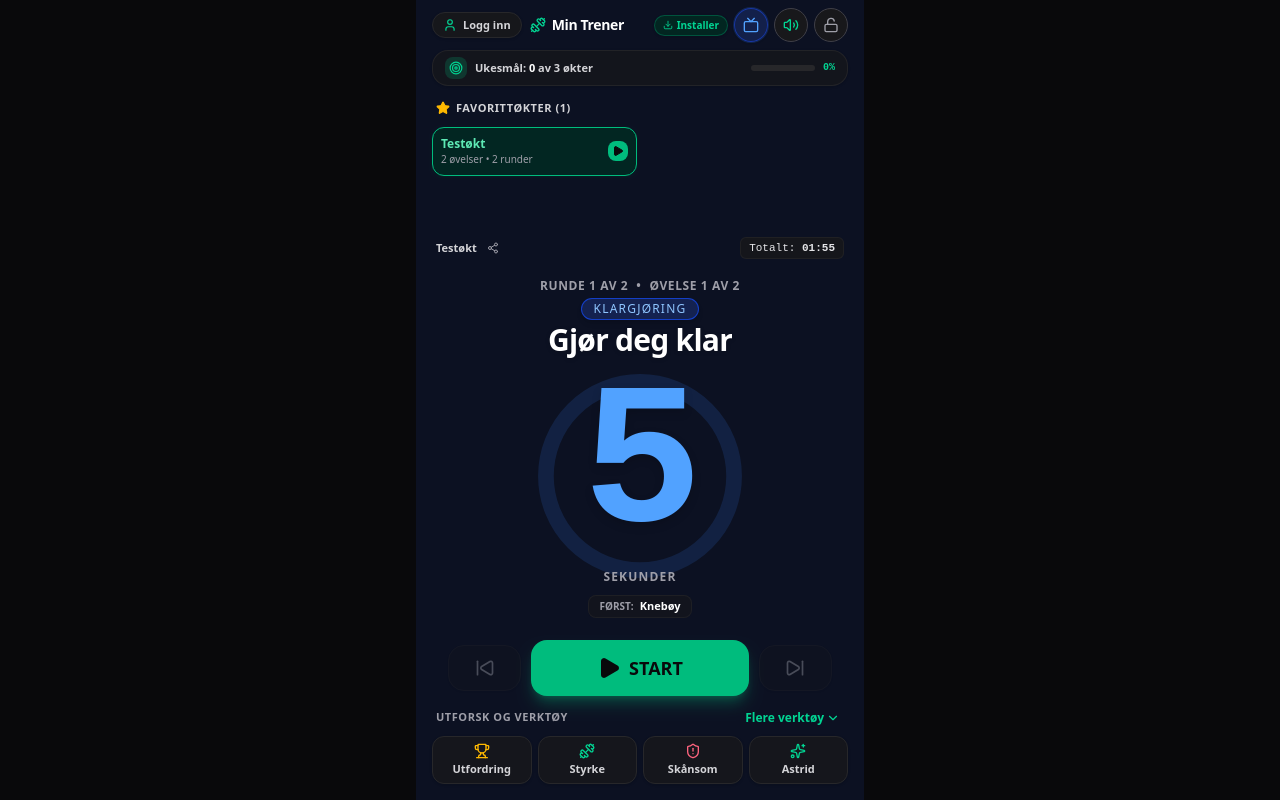
Scenario: TimerDisplay – streak i ukesmål-pillen (idle-gren) › detaljarket kan lukkes igjen med lukkeknappen
Click the button named "åpne detaljer" at [502, 67], box [432, 50, 848, 86]
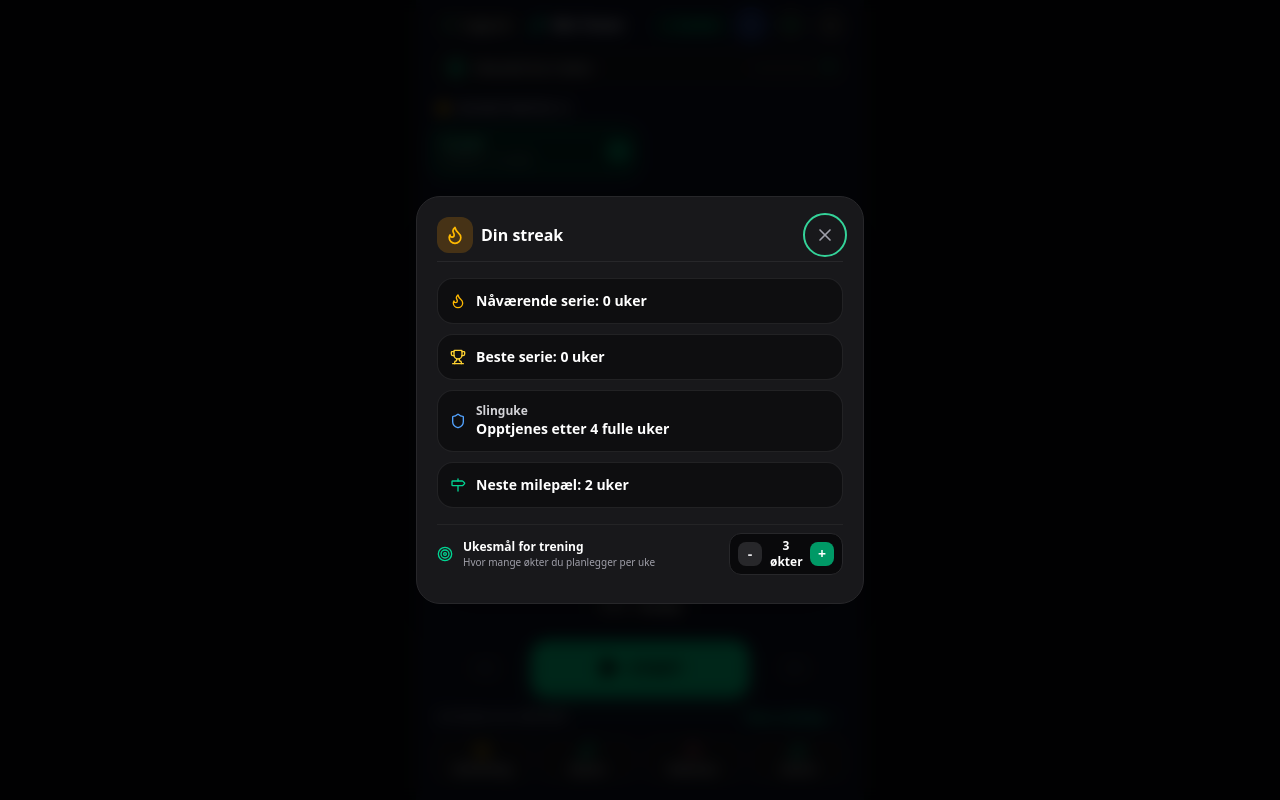
Click the button named "Lukk" at [825, 235], box [807, 217, 843, 253]
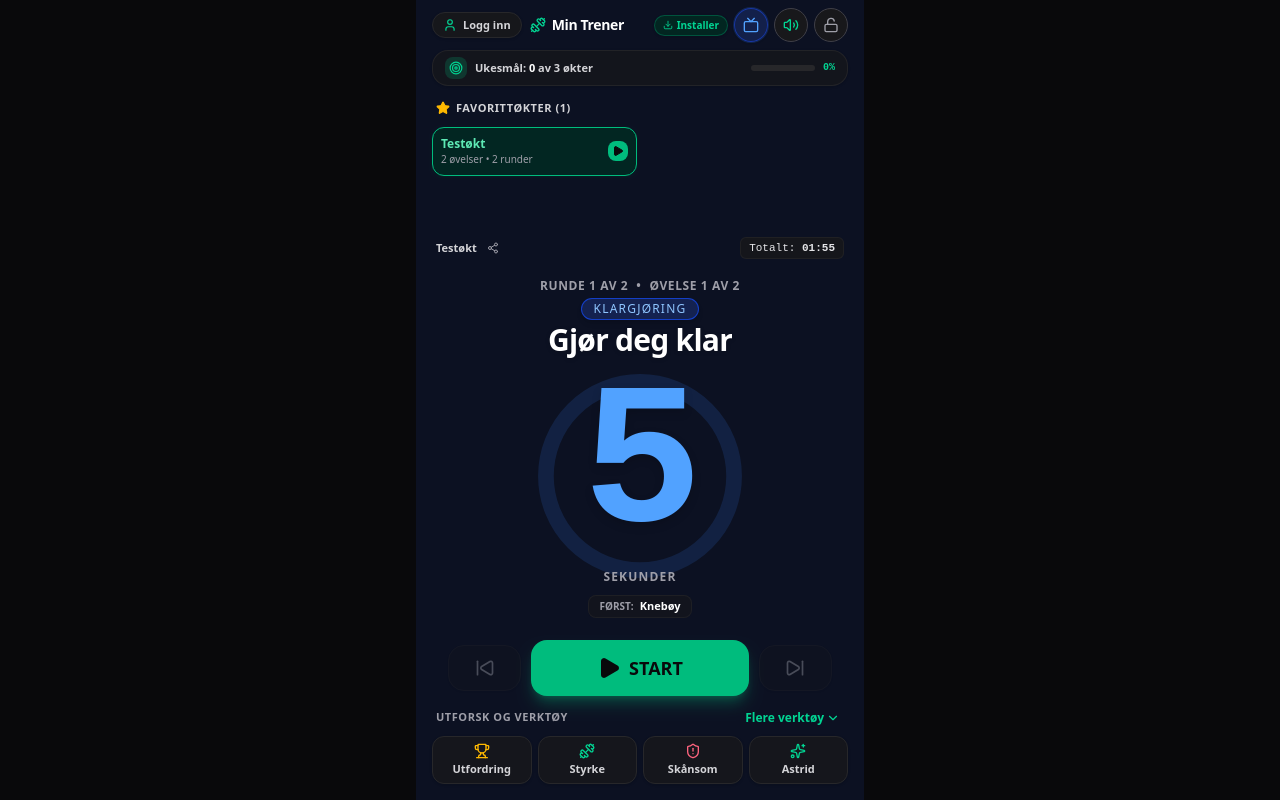
Result: the heading "Din streak" is gone
